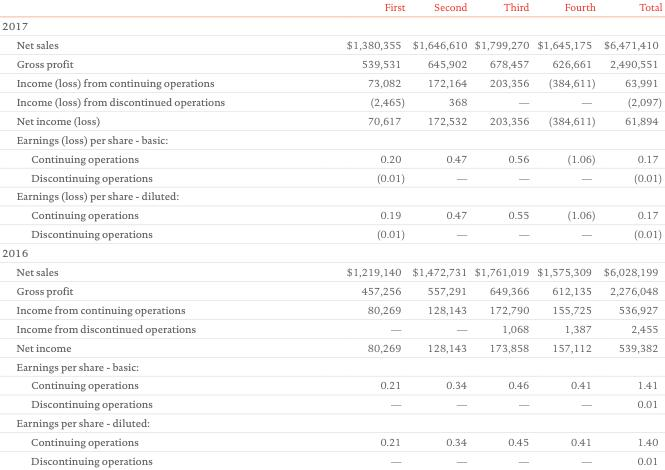table: (0, 0, 661, 466)
table column: (0, 0, 284, 466), (284, 0, 408, 466), (532, 0, 598, 466), (598, 0, 661, 466), (408, 0, 470, 466), (470, 0, 532, 466)
table column header: (0, 0, 661, 16)
table projected row header: (0, 16, 661, 35), (0, 129, 661, 148), (0, 186, 661, 205), (0, 356, 661, 375), (0, 413, 661, 432), (0, 243, 661, 261)
table row: (0, 16, 661, 35), (0, 35, 661, 54), (0, 72, 661, 91), (0, 91, 661, 110), (0, 110, 661, 129), (0, 129, 661, 148), (0, 148, 661, 167), (0, 167, 661, 186), (0, 186, 661, 205), (0, 205, 661, 224), (0, 224, 661, 243), (0, 261, 661, 280), (0, 280, 661, 299), (0, 299, 661, 318), (0, 318, 661, 337), (0, 337, 661, 356), (0, 356, 661, 375), (0, 375, 661, 394), (0, 394, 661, 413), (0, 413, 661, 432), (0, 432, 661, 451), (0, 54, 661, 72), (0, 243, 661, 261), (0, 0, 661, 16), (0, 451, 661, 466)
